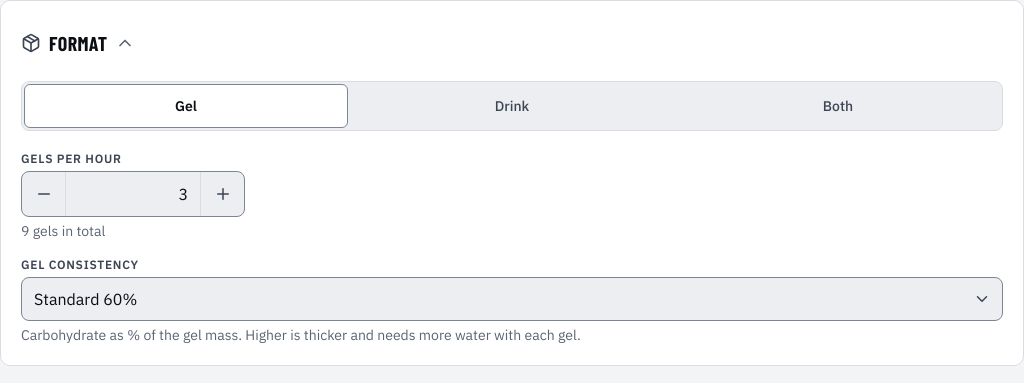
Test: FormatSection: layout › is a collapsible region with a summary while closed
Expected: the headings read "Format", in this order, [21,21,136,65]
Click the button "Format". click: x=78, y=43
box: [17,21,140,65]
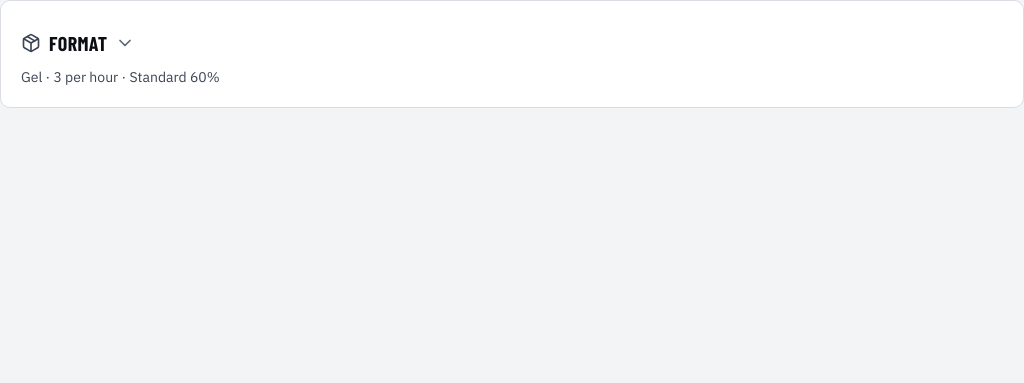
Expected: the button "Format" is collapsed, [17,21,140,65]
Expected: the text "Gel · 3 per hour · Standard 60%" is shown, [21,68,220,86]
